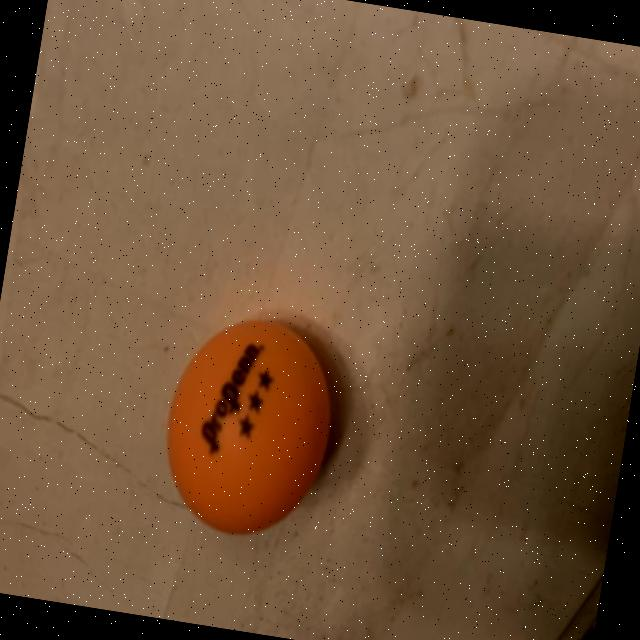ping-pong-ball: (138, 298, 361, 562)
